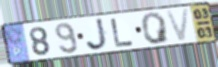8: (28, 26, 52, 57)
9: (53, 21, 79, 55)
J: (85, 17, 111, 52)
L: (109, 17, 136, 49)
Q: (140, 11, 172, 46)
V: (164, 7, 192, 44)
